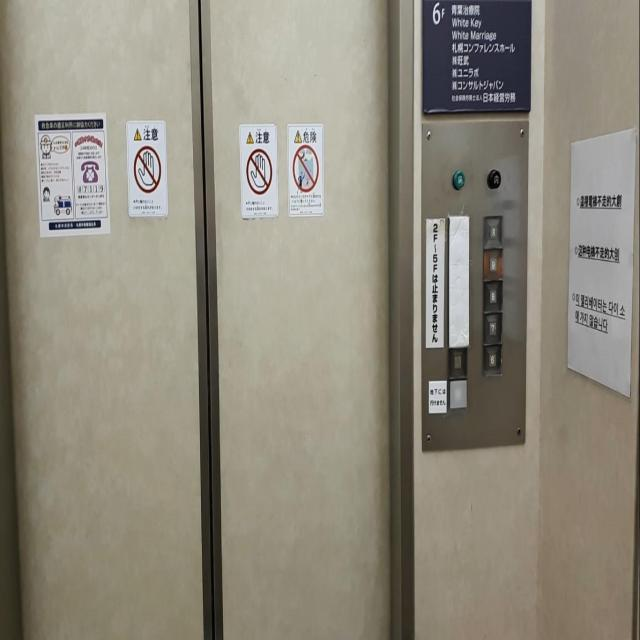6: (482, 344, 502, 375)
7: (482, 312, 502, 345)
8: (482, 280, 503, 312)
9: (482, 248, 502, 280)
R: (483, 214, 503, 248)
empty: (448, 345, 467, 377), (449, 378, 467, 408)
text: (452, 168, 464, 190), (488, 168, 500, 188)
